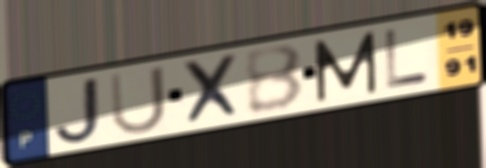B: (241, 42, 306, 117)
J: (51, 74, 104, 148)
L: (382, 27, 431, 91)
M: (311, 29, 381, 105)
U: (107, 63, 170, 139)
X: (179, 51, 246, 128)
